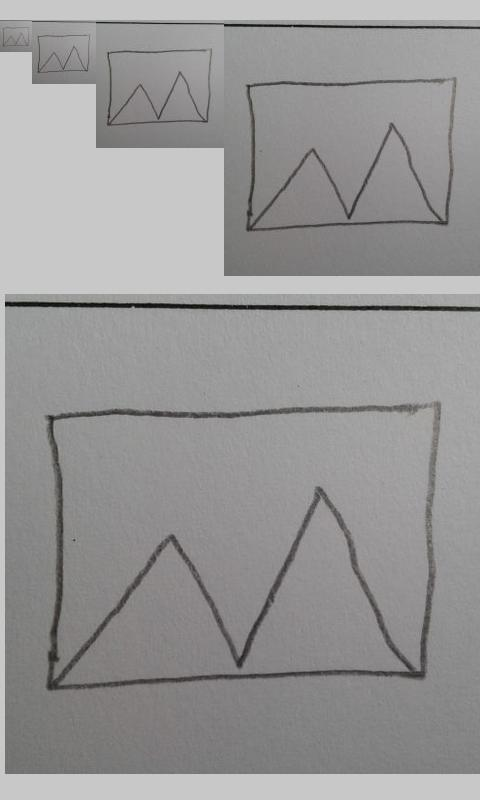image_view: (47, 401, 440, 691), (241, 76, 457, 233), (107, 48, 213, 126), (37, 34, 90, 73), (2, 26, 30, 47)
